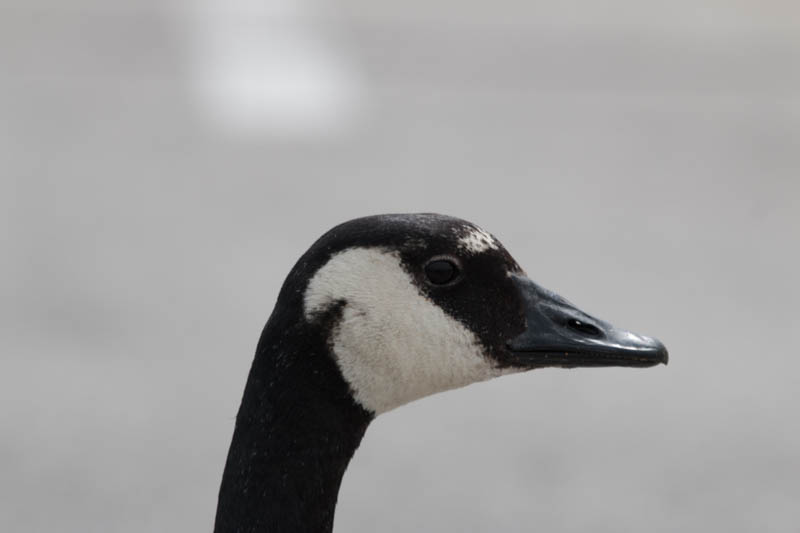goose-head: (239, 212, 670, 417)
